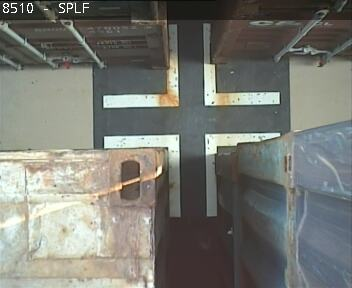groundmarker_1: (103, 23, 279, 110), (103, 131, 280, 217)
